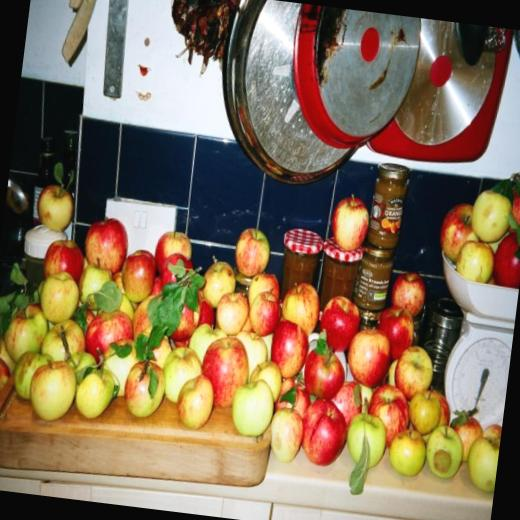Apple: (0, 195, 520, 492), (436, 167, 520, 285), (77, 216, 126, 283), (329, 193, 373, 251), (33, 184, 75, 234)
